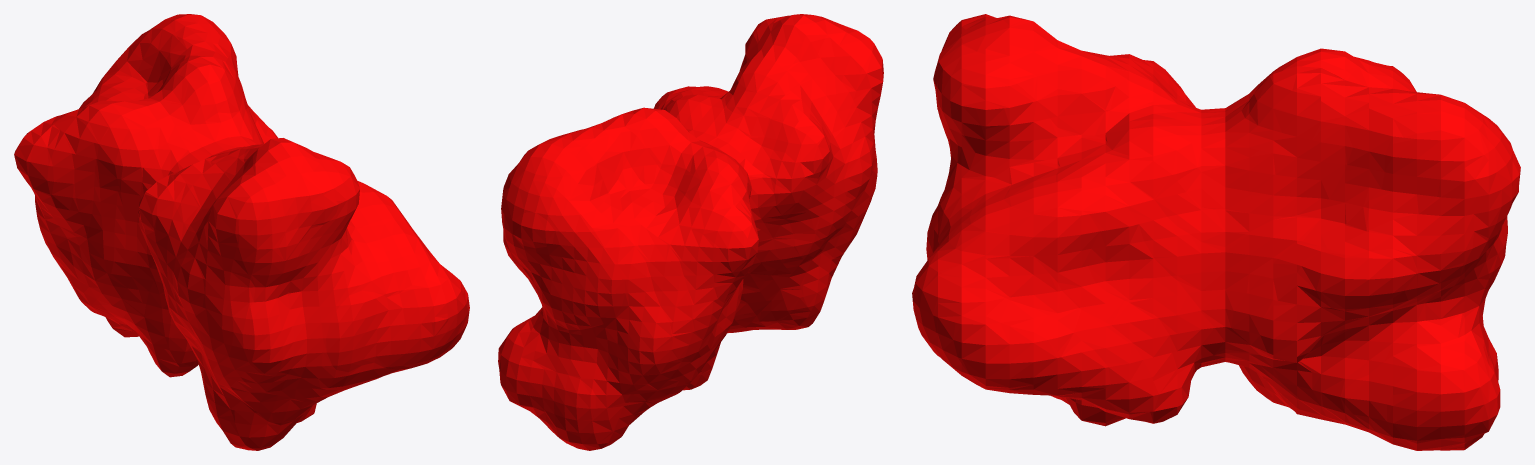
File: moaB_coarse.dae
The picture shows the model from 3 angles, left to right: view 1: azimuth 30°, elevation 25°; view 2: azimuth 150°, elevation 25°; view 3: azimuth 270°, elevation 25°; orthographic projection. The views are drawn at different scales.
Parts seen in each view (by area): view 1: moaB; view 2: moaB; view 3: moaB.
Part boxes in pixels (bbox=[...]): moaB: bbox=[14, 14, 469, 450]; moaB: bbox=[498, 14, 883, 450]; moaB: bbox=[912, 14, 1520, 450].
Size of the model in its own units: 45.04 by 51.61 by 71.24.
